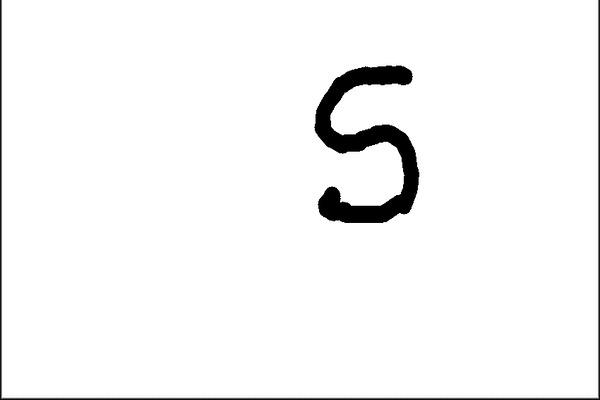S: (300, 56, 427, 231)
